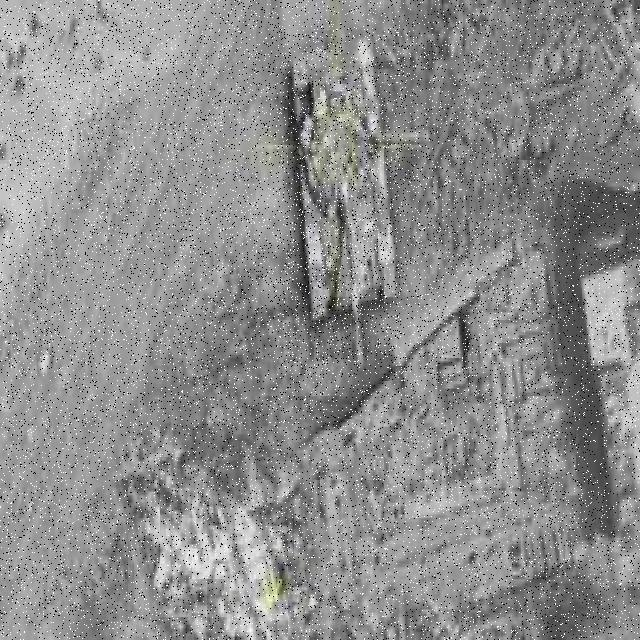MIL_MBT: (283, 27, 404, 375)
